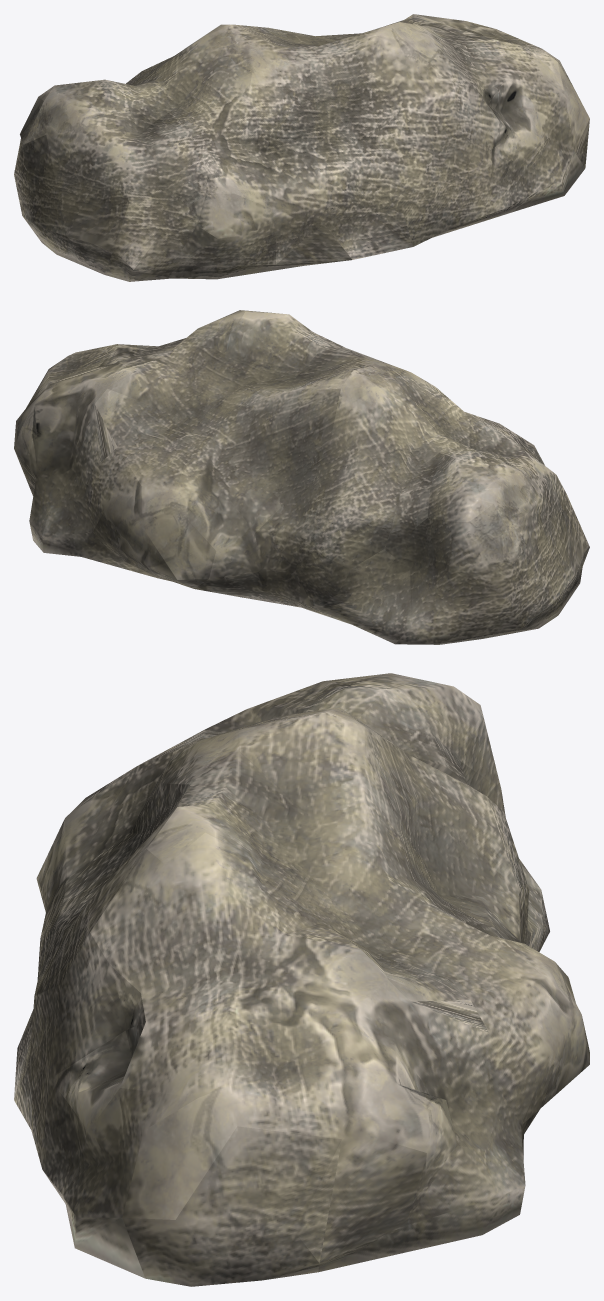
Rendered from rock5_LOD1.fbx.
3 renders of one model, top to bottom at view 1: azimuth 30°, elevation 25°; view 2: azimuth 150°, elevation 25°; view 3: azimuth 270°, elevation 25°, orthographic. The views are drawn at different scales.
Parts seen in each view (by area): view 1: rock5; view 2: rock5; view 3: rock5.
Part boxes in pixels (left/top/right/bottom): rock5: left=14, top=14, right=589, bottom=281; rock5: left=14, top=310, right=589, bottom=644; rock5: left=14, top=673, right=589, bottom=1286.
Bounding box in the file's own units: 30.55 × 17.36 × 10.65.
